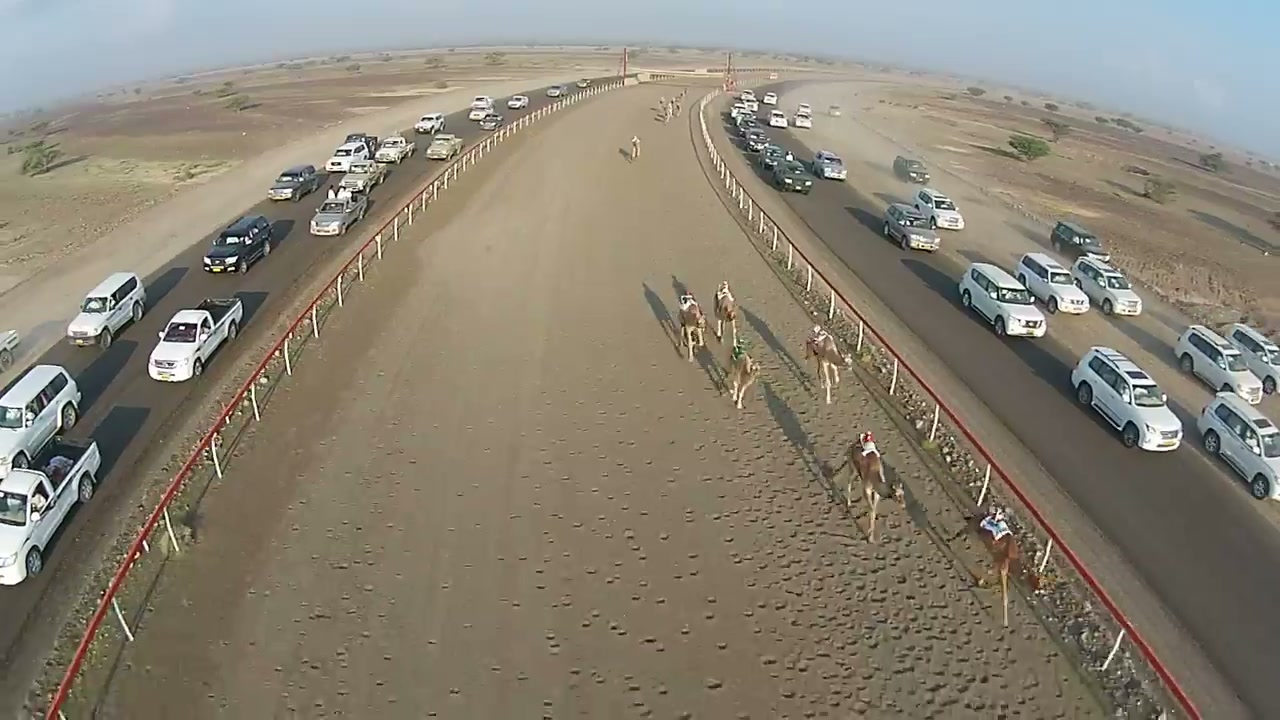animal_foot_print: (497, 389, 1095, 719)
